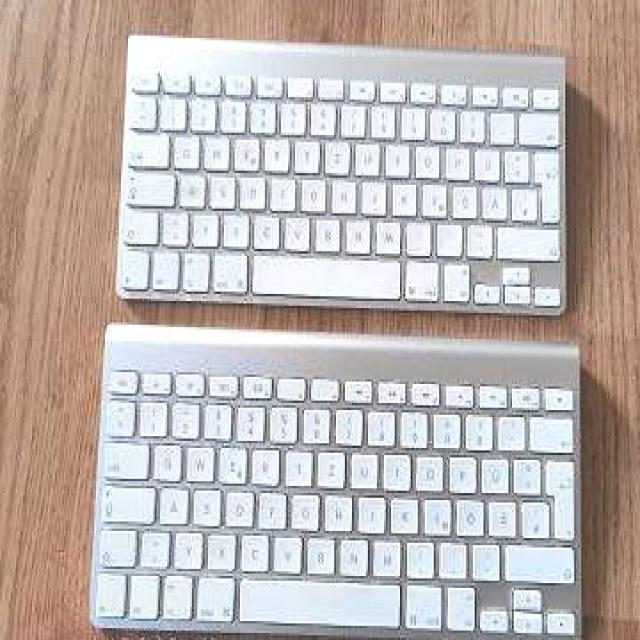keyboard: (82, 313, 588, 640), (112, 24, 571, 320)
